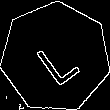L_NW: (29, 28, 82, 87)
